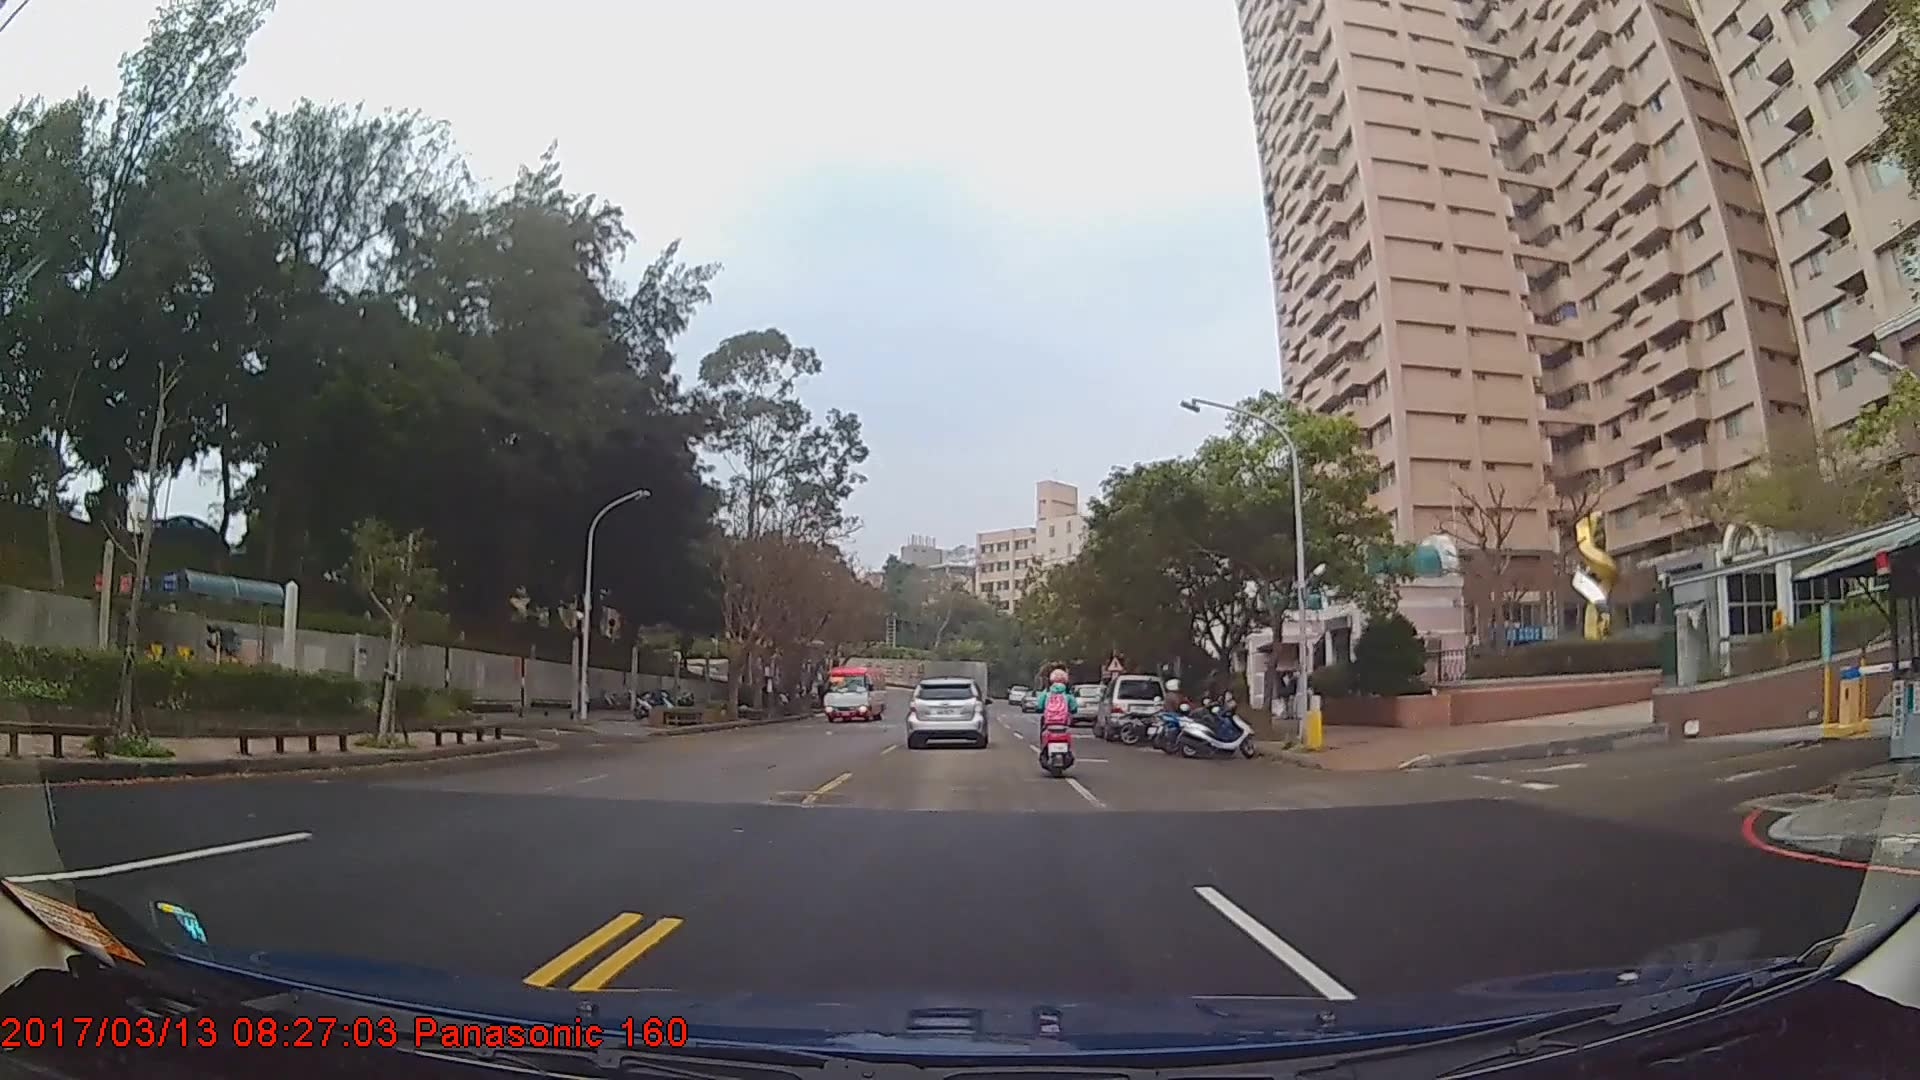rider: (1035, 668, 1081, 786), (1148, 679, 1195, 751)
vehicle: (906, 677, 987, 750), (1095, 672, 1168, 740), (819, 666, 884, 726), (1065, 681, 1111, 727)
